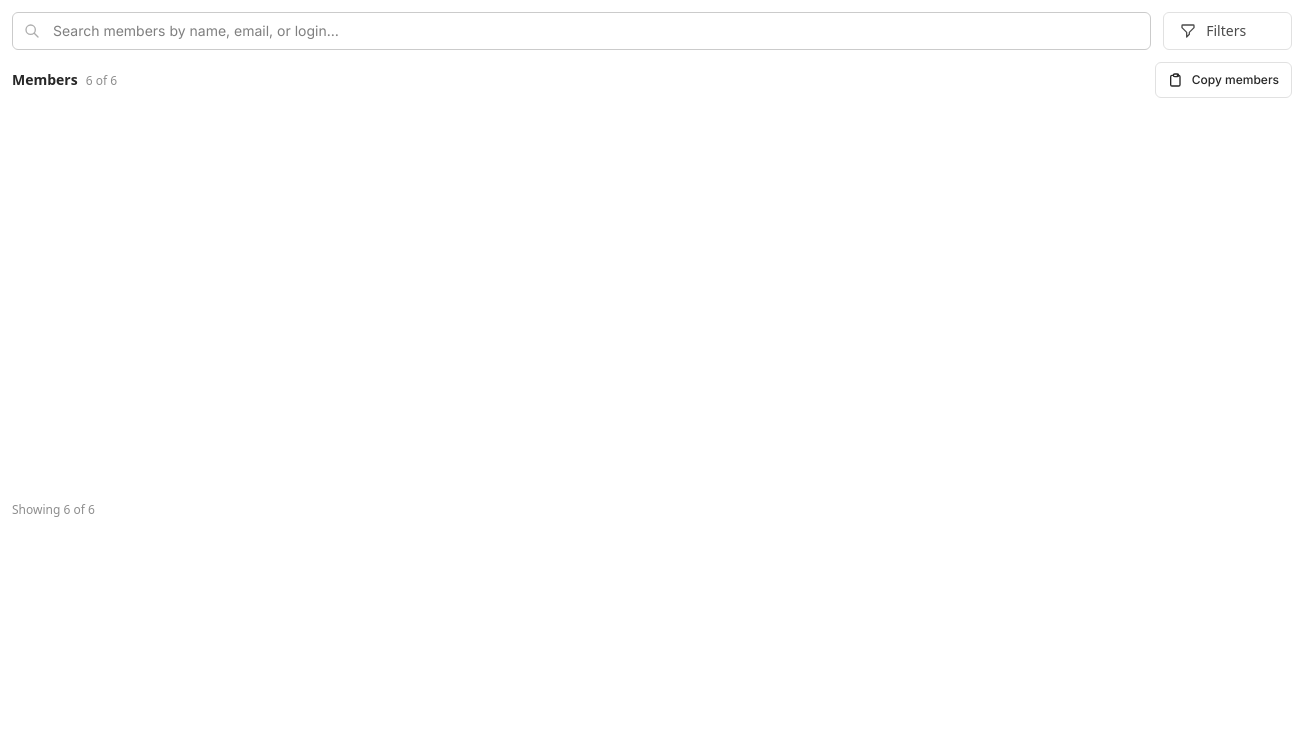
Test: MemberExplorer filtering › keeps the roster reachable behind a filter that matches nobody
This screenshot has width=1304, height=732.
Click the button "Filters" at (1228, 31), box [1163,12,1292,50]
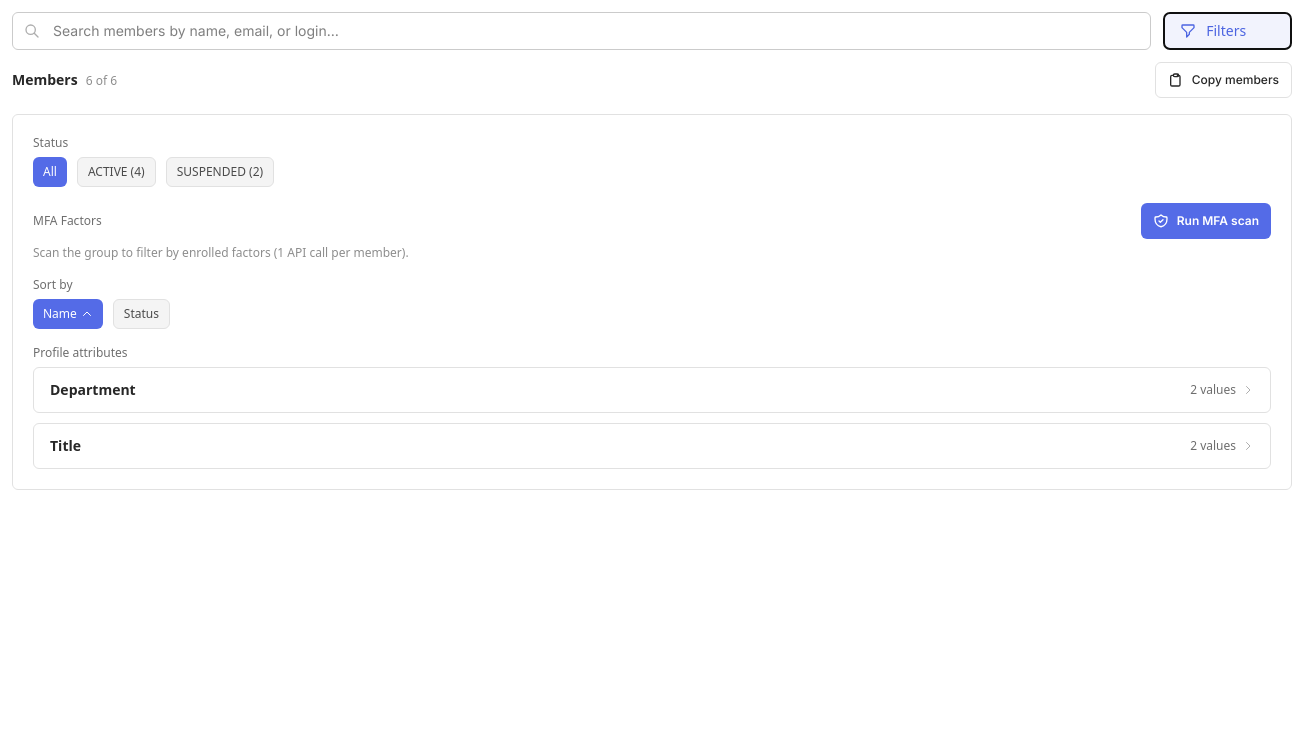
Click the button "SUSPENDED (2)" at (220, 172), box [166,157,274,187]
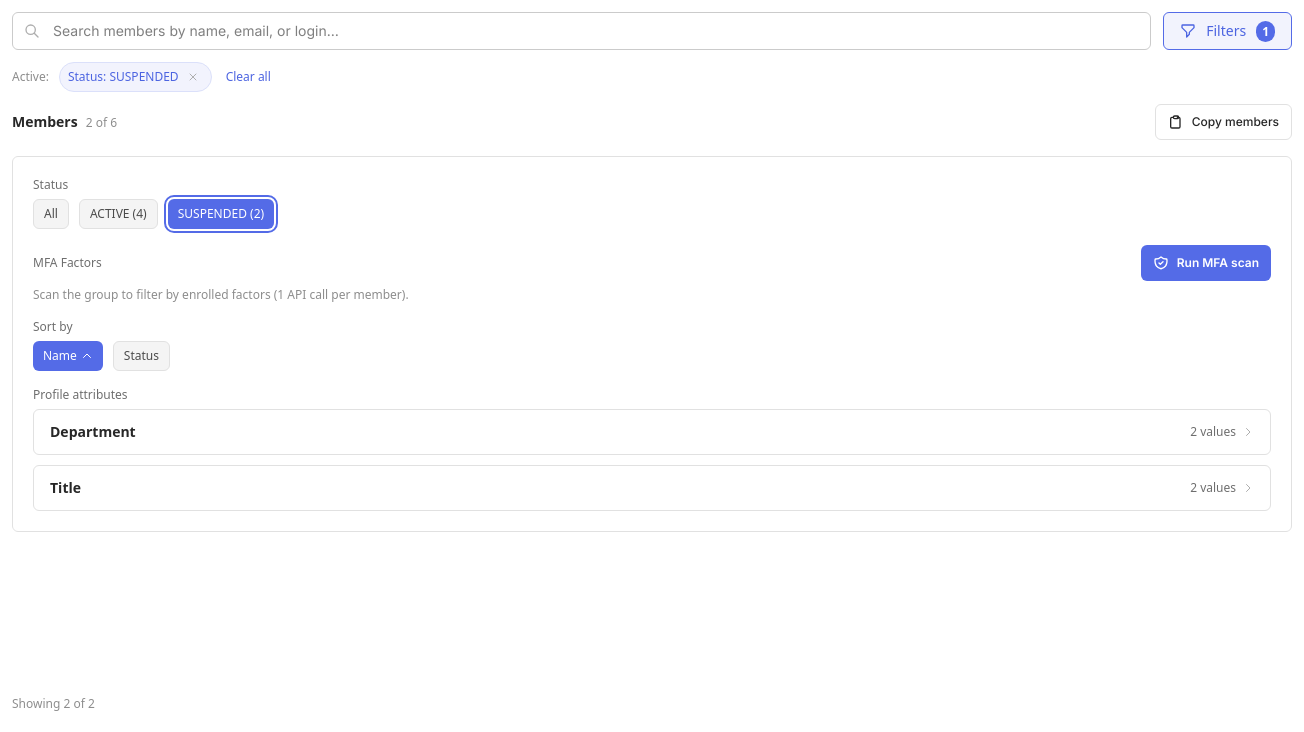
Type "grace" into the search field at (582, 31), box [12,12,1151,50]
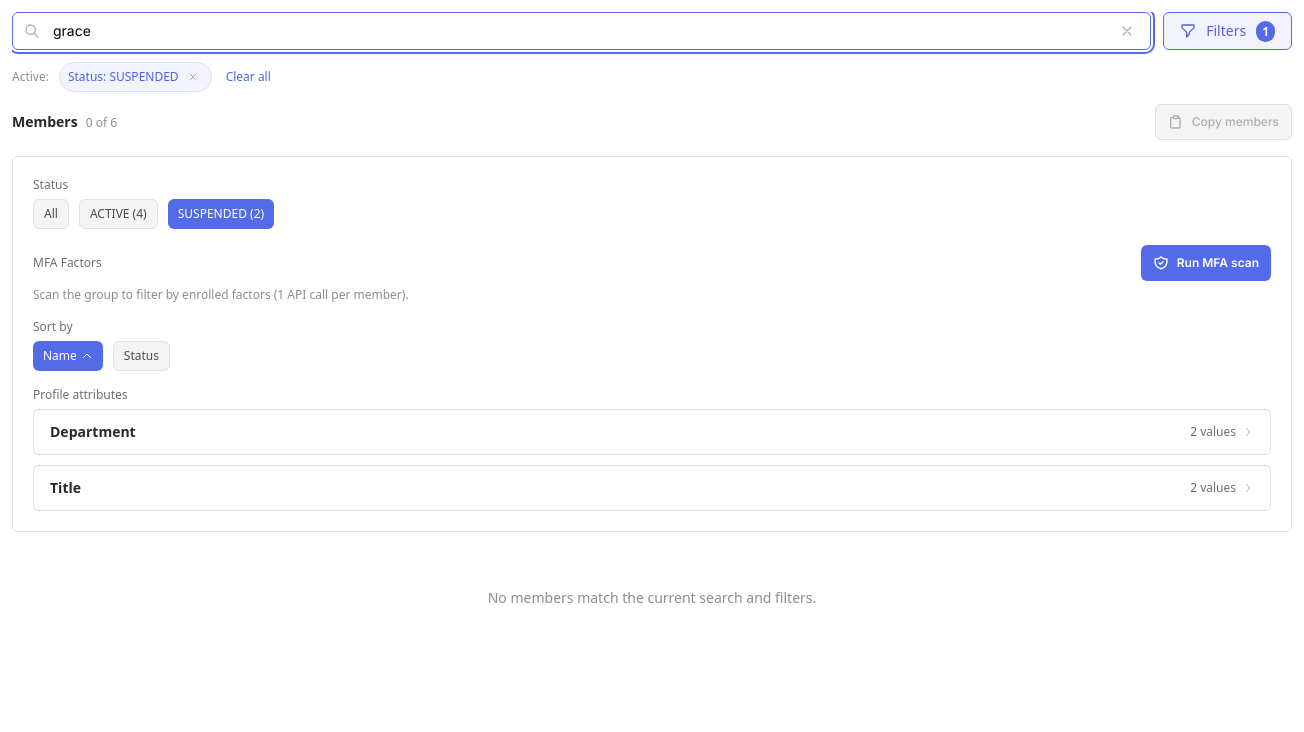
Expected: the text "0 of 6" is shown, [86,114,117,131]
Click the button named "Clear search" at (1127, 31), box [1115,19,1139,43]
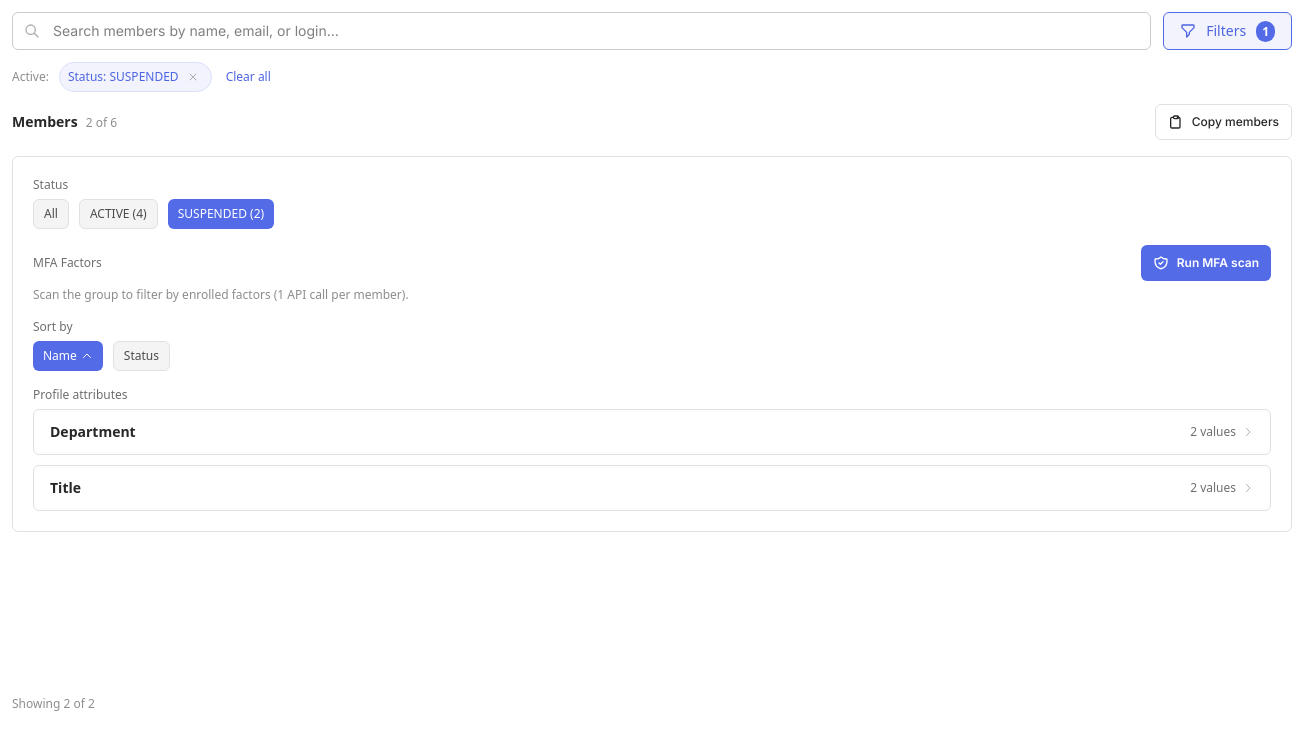
Expected: the text "2 of 6" is shown, [86,114,117,131]
